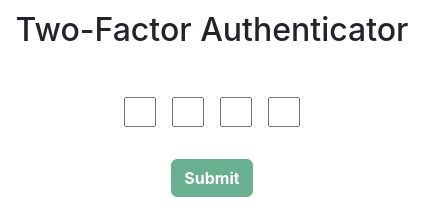
<App /> › The user should be able to submit the two-factor authenticator code when all the boxes are filled
Type "0" into the number field named "input-code-0" at [140, 112], box [124,97,156,127]
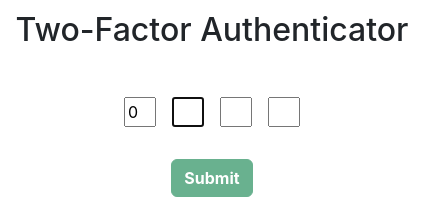
Type "3" into the number field named "input-code-1" at [188, 112], box [172,97,204,127]
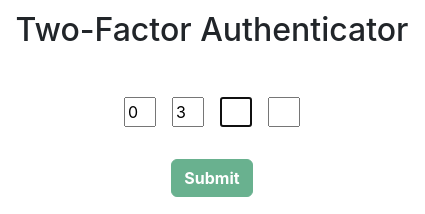
Type "7" into the number field named "input-code-2" at [236, 112], box [220,97,252,127]
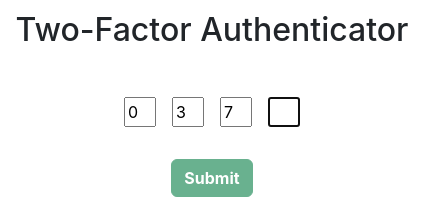
Type "3" into the number field named "input-code-3" at [284, 112], box [268,97,300,127]
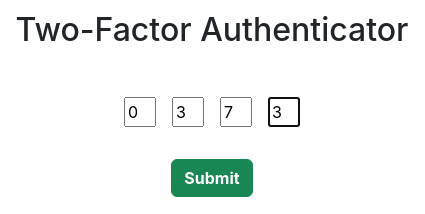
Check: the button "Submit" is enabled, box [171,159,253,197]
